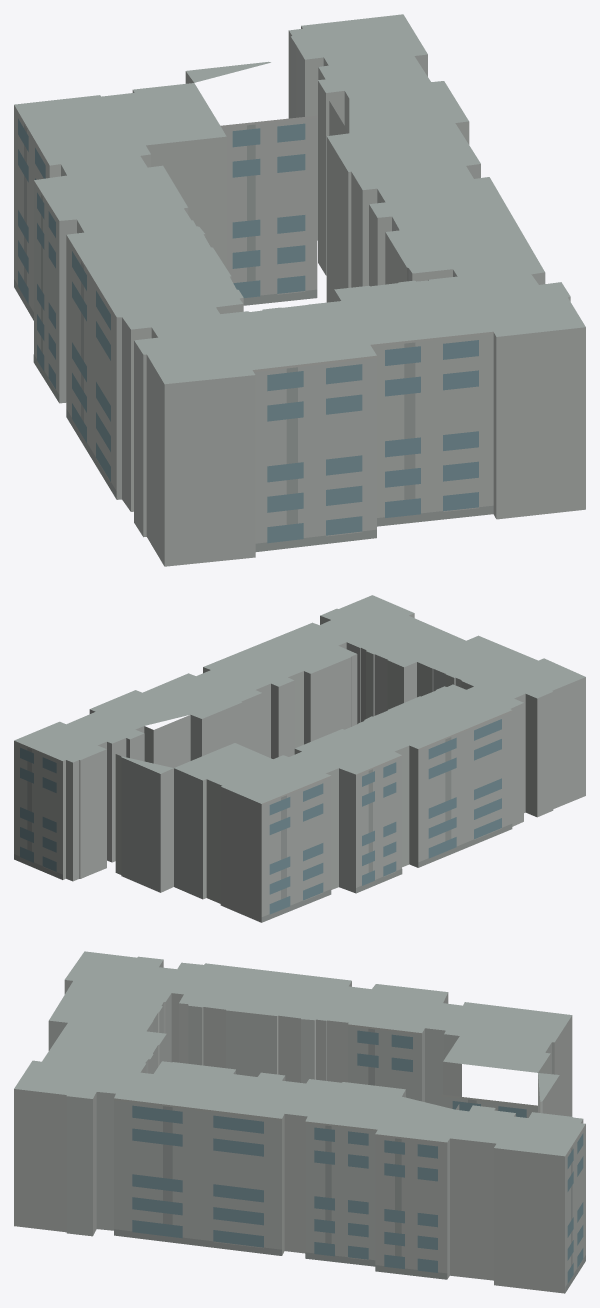
File: survey-upis-32906885.glb
The picture shows the model from 3 angles, top to bottom: view 1: azimuth 30°, elevation 25°; view 2: azimuth 150°, elevation 25°; view 3: azimuth 270°, elevation 25°; orthographic projection. The views are drawn at different scales.
Parts seen in each view (by area): view 1: survey-upis-32906885.tmp; view 2: survey-upis-32906885.tmp; view 3: survey-upis-32906885.tmp.
Boxes of the visible parts, x1=… form: survey-upis-32906885.tmp: x1=14, y1=14, x2=585, y2=566; survey-upis-32906885.tmp: x1=14, y1=595, x2=585, y2=922; survey-upis-32906885.tmp: x1=14, y1=951, x2=585, y2=1293.
Size of the model in its own units: 58.92 by 18.4 by 69.48.
